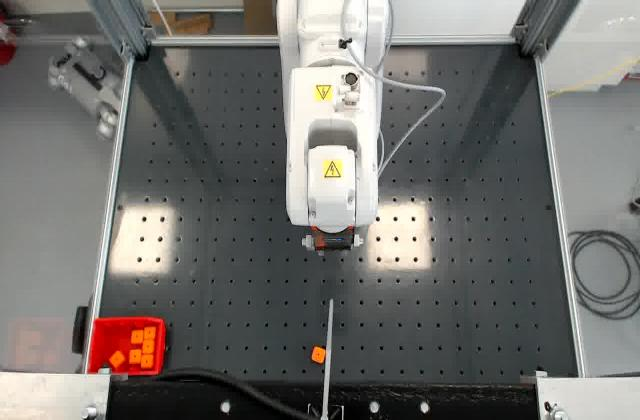cube: (310, 345, 327, 364)
